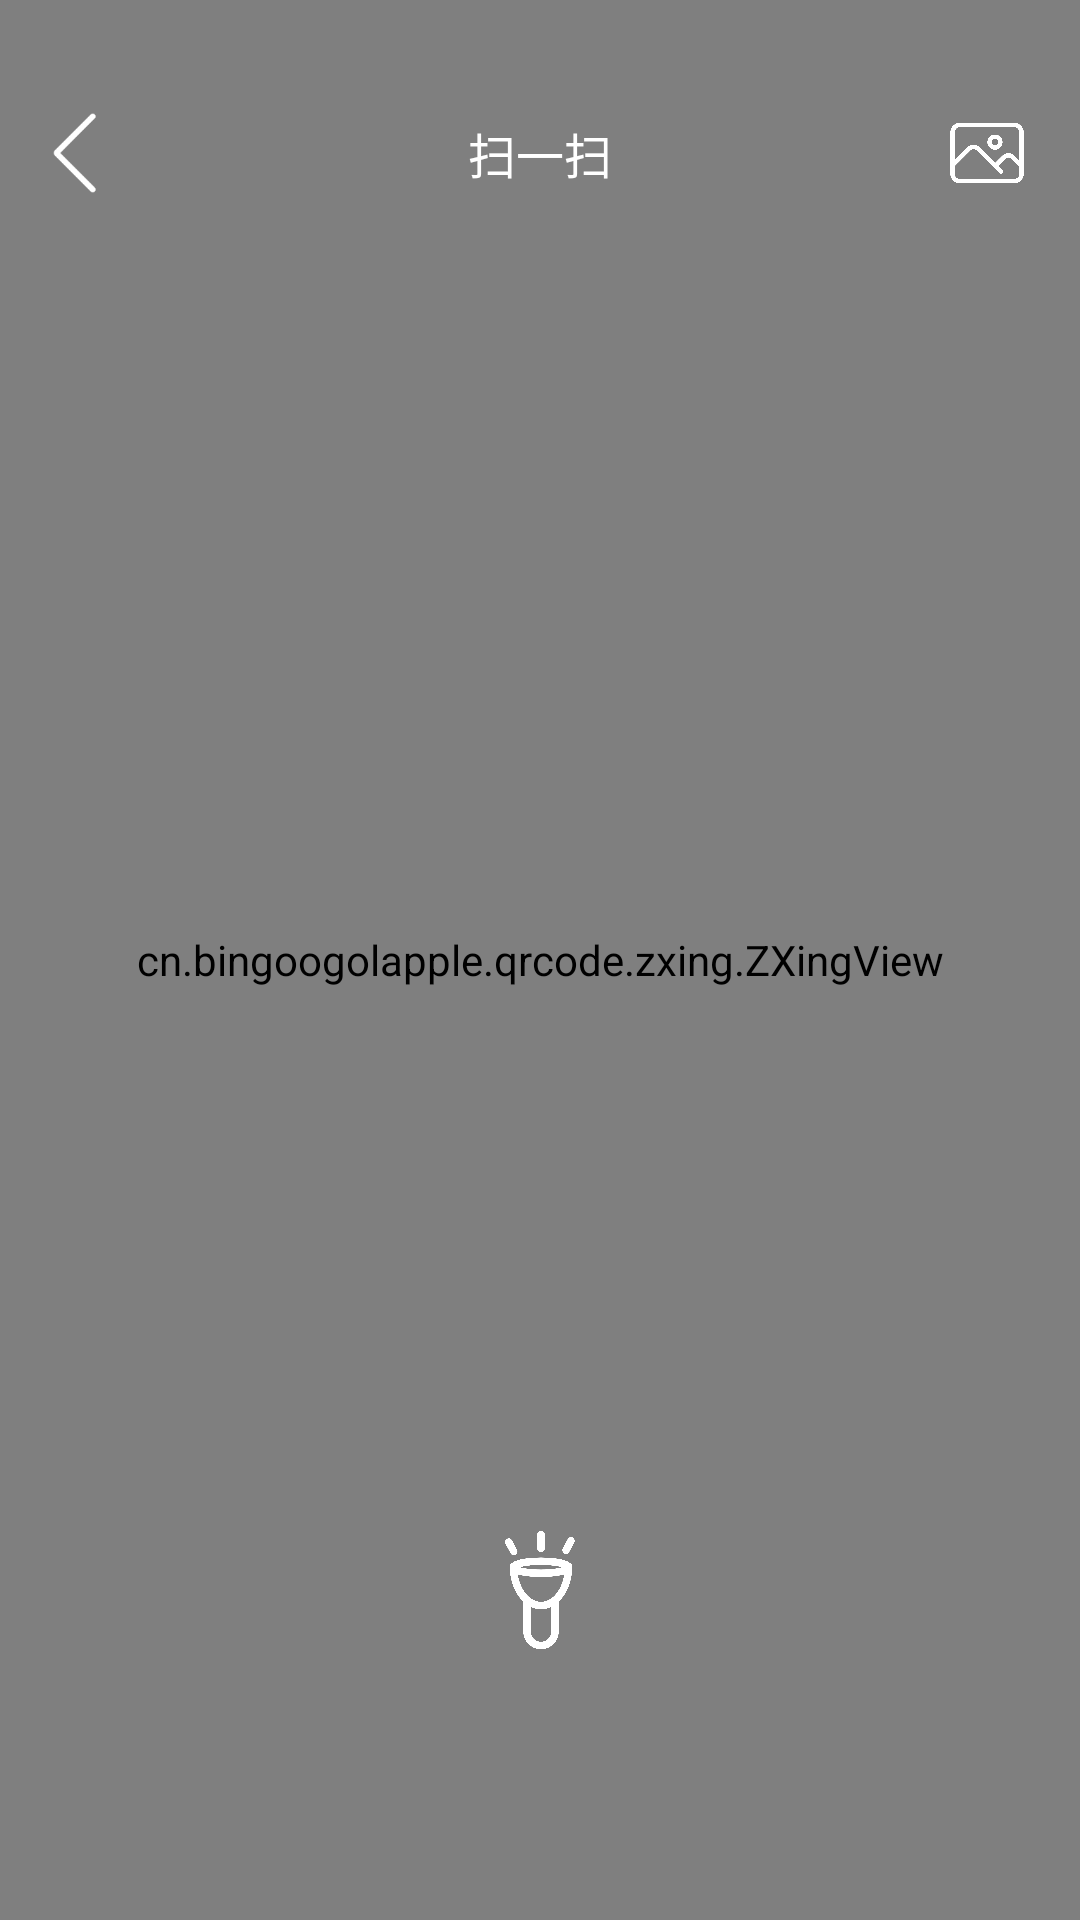

Icon bounding boxes for this 1080x1920 phone screenshot, format (x1, y1, x2, y2):
back: (53, 113, 96, 193)
flashlight: (505, 1531, 575, 1649)
scan album: (950, 123, 1024, 183)
